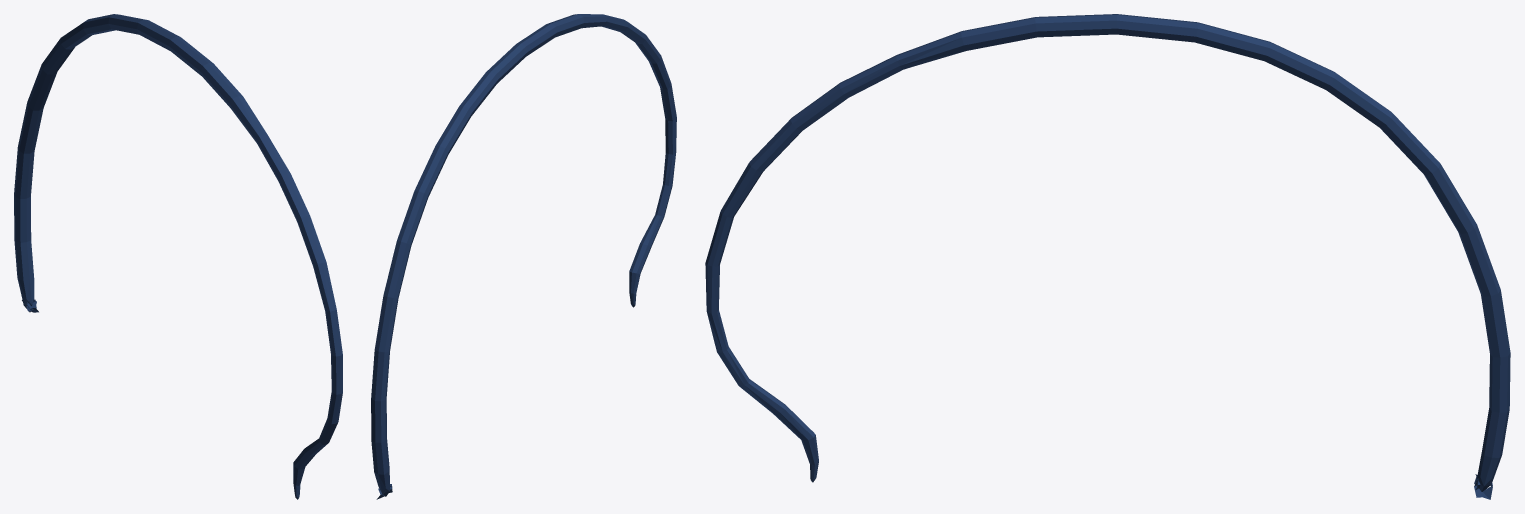
Rendered from Seno Sagital Superior.FBX.
3 renders of one model, left to right at view 1: azimuth 30°, elevation 25°; view 2: azimuth 150°, elevation 25°; view 3: azimuth 270°, elevation 25°, orthographic. The views are drawn at different scales.
Visible parts, largest first — view 1: CS_Veins; view 2: CS_Veins; view 3: CS_Veins.
Boxes of the visible parts, x1,y1,x2,y2 form: CS_Veins: (14, 14, 342, 499); CS_Veins: (371, 14, 676, 499); CS_Veins: (705, 14, 1510, 499).
Size of the model in its own units: 12.67 by 315 by 479.
